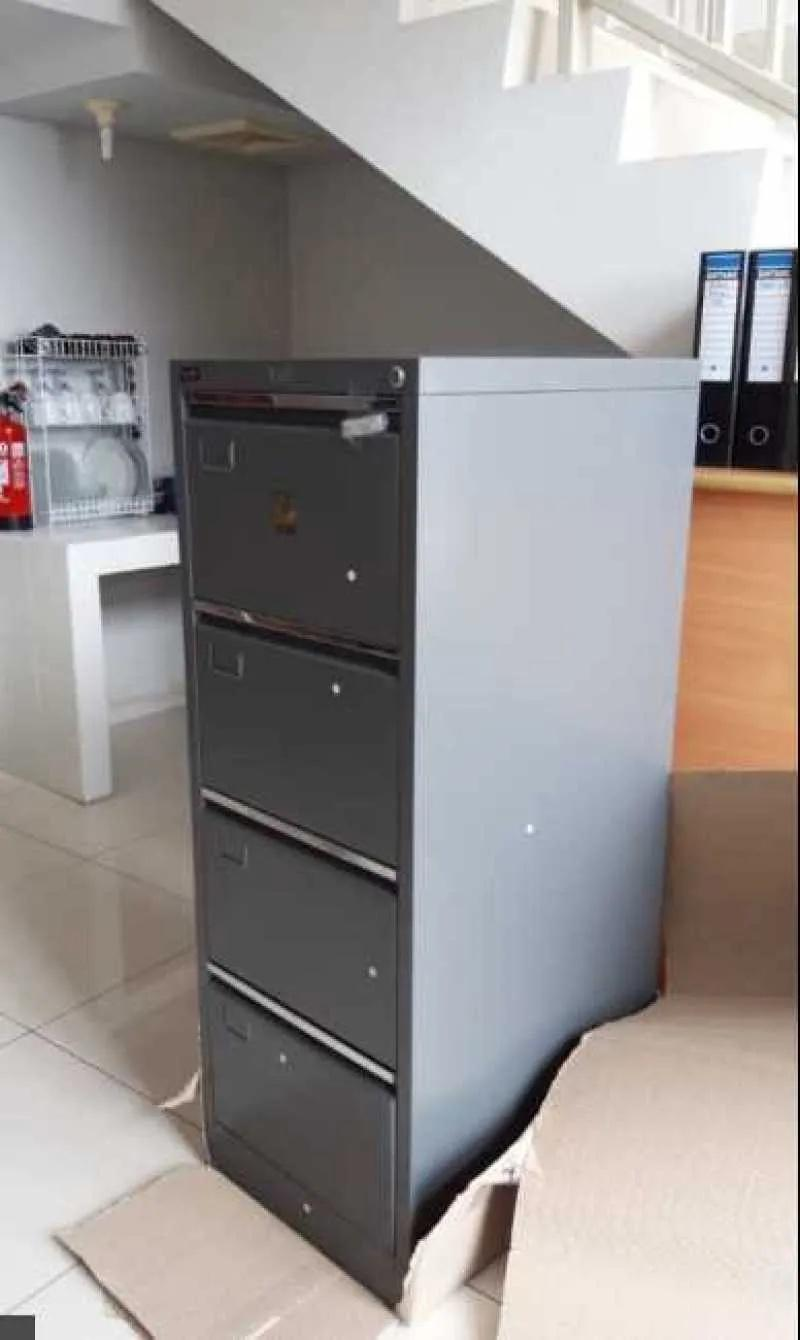Filing Cabinet: (168, 356, 420, 1312)
